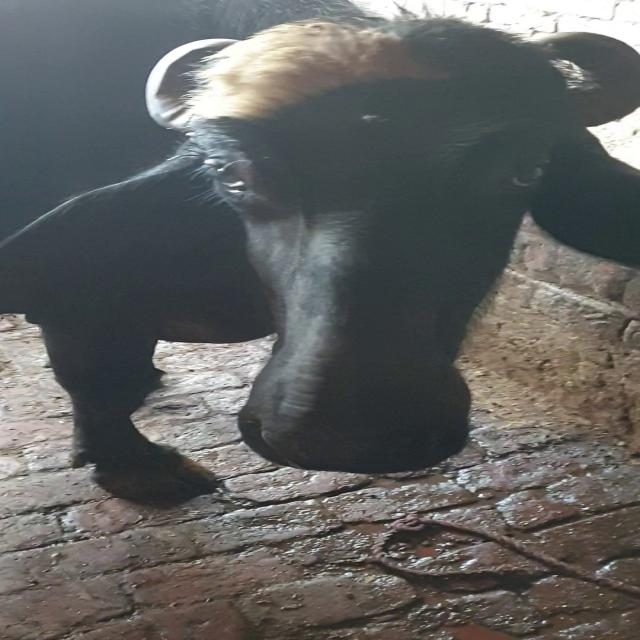cowFace: (181, 36, 545, 462)
